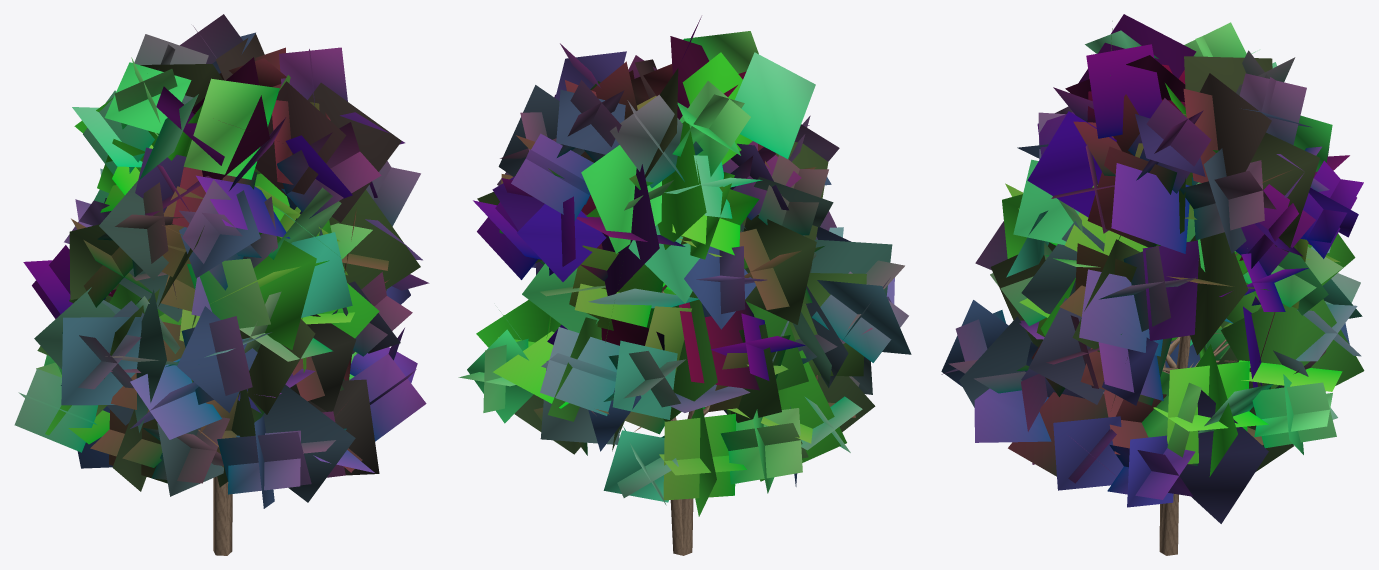
Rendered from SugarMaple_LOD1.fbx.
The picture shows the model from 3 angles, left to right: view 1: azimuth 30°, elevation 25°; view 2: azimuth 150°, elevation 25°; view 3: azimuth 270°, elevation 25°; orthographic projection. The views are drawn at different scales.
Visible parts, largest first — view 1: Foliage, Bark; view 2: Foliage, Bark; view 3: Foliage, Bark.
Part boxes in pixels (left/top/right/bottom): Foliage: left=14, top=14, right=429, bottom=508; Bark: left=213, top=476, right=232, bottom=555; Foliage: left=458, top=16, right=911, bottom=516; Bark: left=634, top=284, right=710, bottom=555; Foliage: left=941, top=14, right=1364, bottom=523; Bark: left=1159, top=253, right=1238, bottom=555.
Size of the model in its own units: 12.35 by 15.41 by 11.52.
